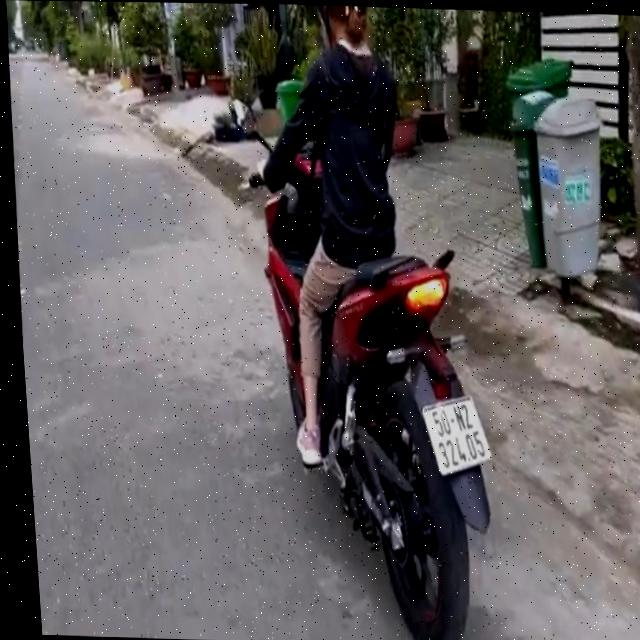motorcycle: (209, 83, 524, 640)
plate: (416, 389, 494, 477)
